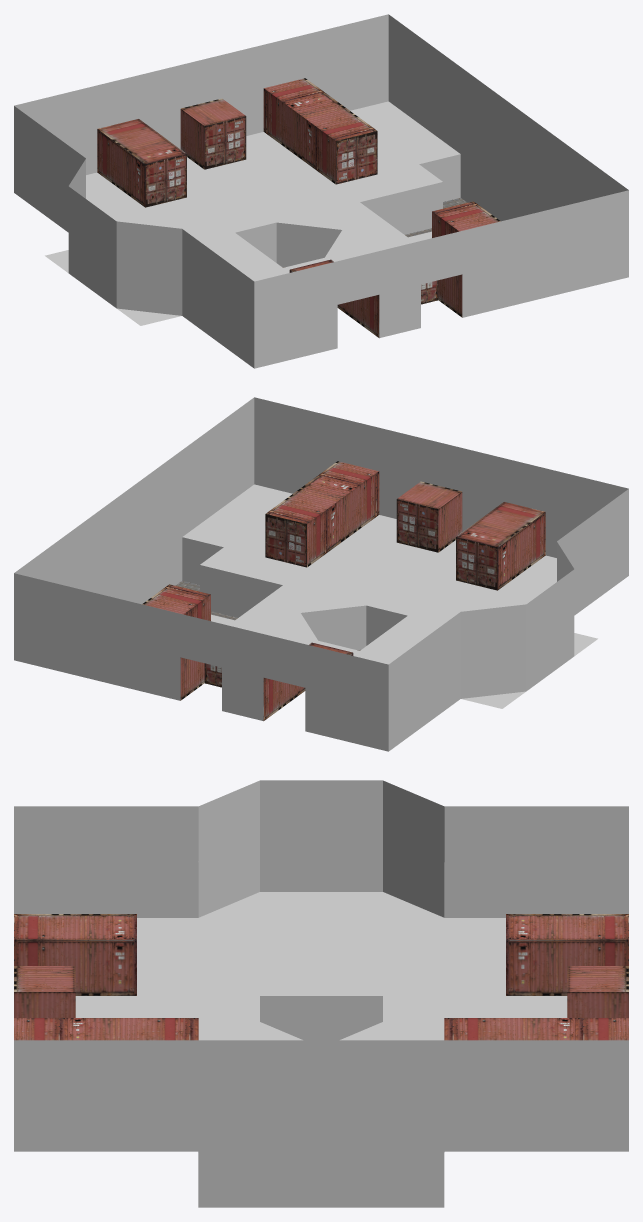
The model's file is magazine.fbx.
The picture shows the model from 3 angles, top to bottom: view 1: azimuth 30°, elevation 25°; view 2: azimuth 150°, elevation 25°; view 3: azimuth 270°, elevation 25°; orthographic projection. The views are drawn at different scales.
Parts seen in each view (by area): view 1: mesh-col; view 2: mesh-col; view 3: mesh-col.
Part boxes in pixels (x1=…): mesh-col: x1=14, y1=14, x2=628, y2=368; mesh-col: x1=14, y1=397, x2=628, y2=751; mesh-col: x1=14, y1=780, x2=628, y2=1207.
Bounding box in the file's own units: 1000 × 300 × 1000.
2 materials, 1 textured.
